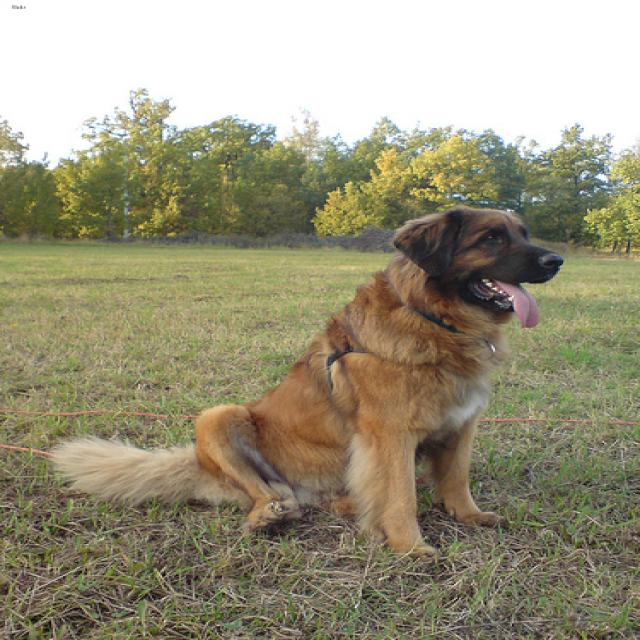dog-leonberger: (38, 197, 570, 564)
